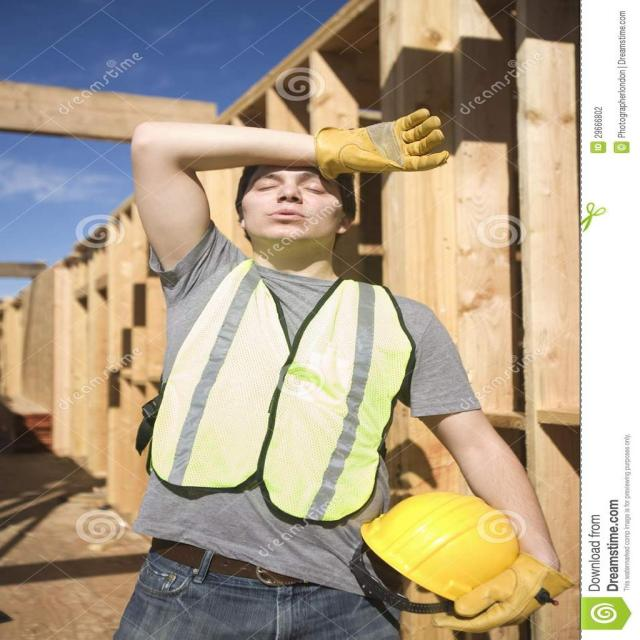Face: (254, 164, 344, 258)
